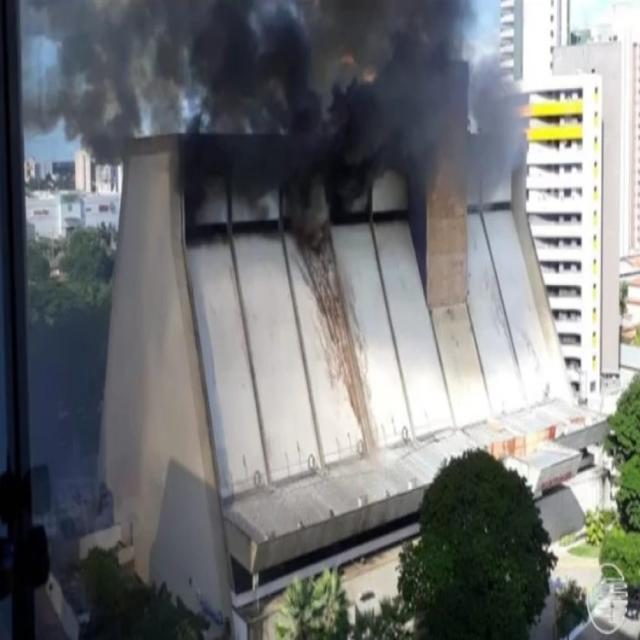Fire: (338, 46, 356, 68), (364, 65, 380, 86)
Smoke: (12, 0, 334, 257), (380, 4, 532, 226), (334, 81, 378, 226), (336, 1, 376, 44)
